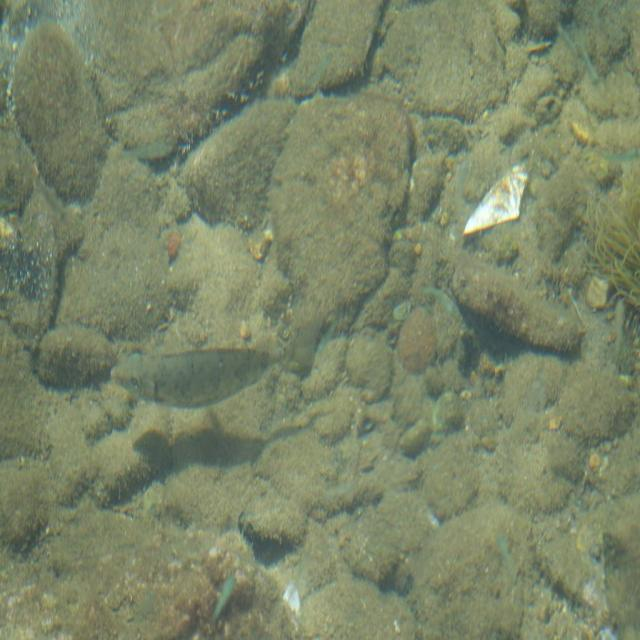Sokar Baligi: (102, 304, 331, 426)
